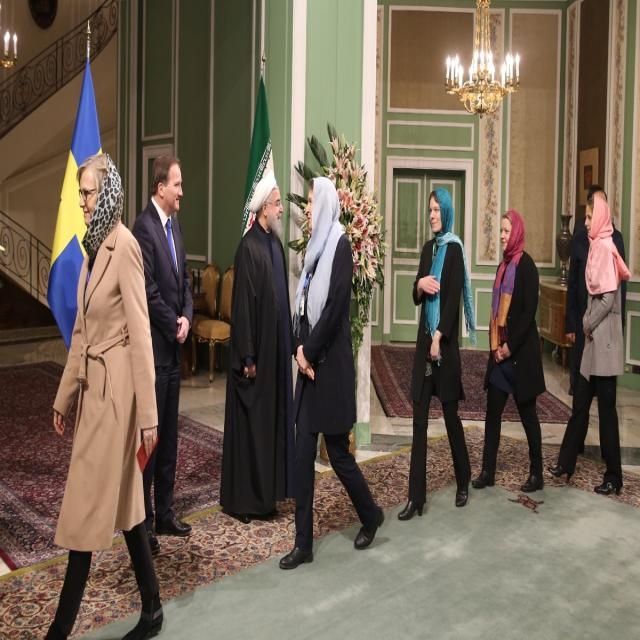body: (37, 148, 165, 639), (278, 173, 387, 572), (218, 162, 302, 526), (396, 184, 478, 522), (546, 193, 634, 497), (132, 153, 196, 559), (470, 204, 549, 496), (561, 179, 628, 466)
